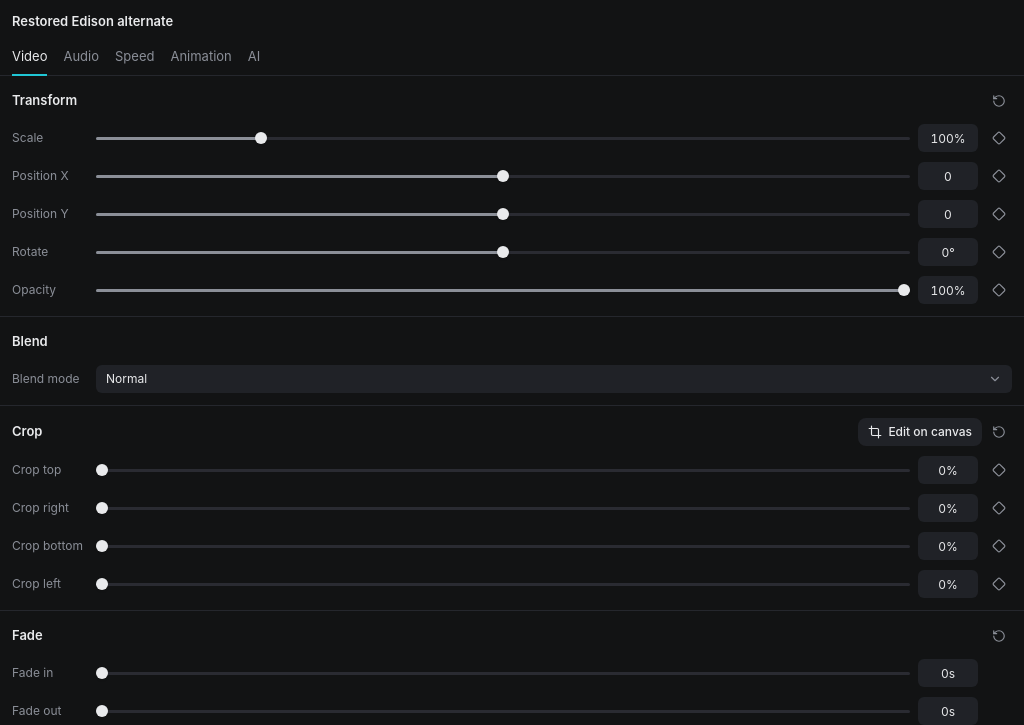
Test: clip AI tab › disables every action while the clip's generation is running
The width and height of the screenshot is (1024, 725).
Press the mouse on the tab "AI" at (254, 58), box [248,40,260,76]
(page scrolled)
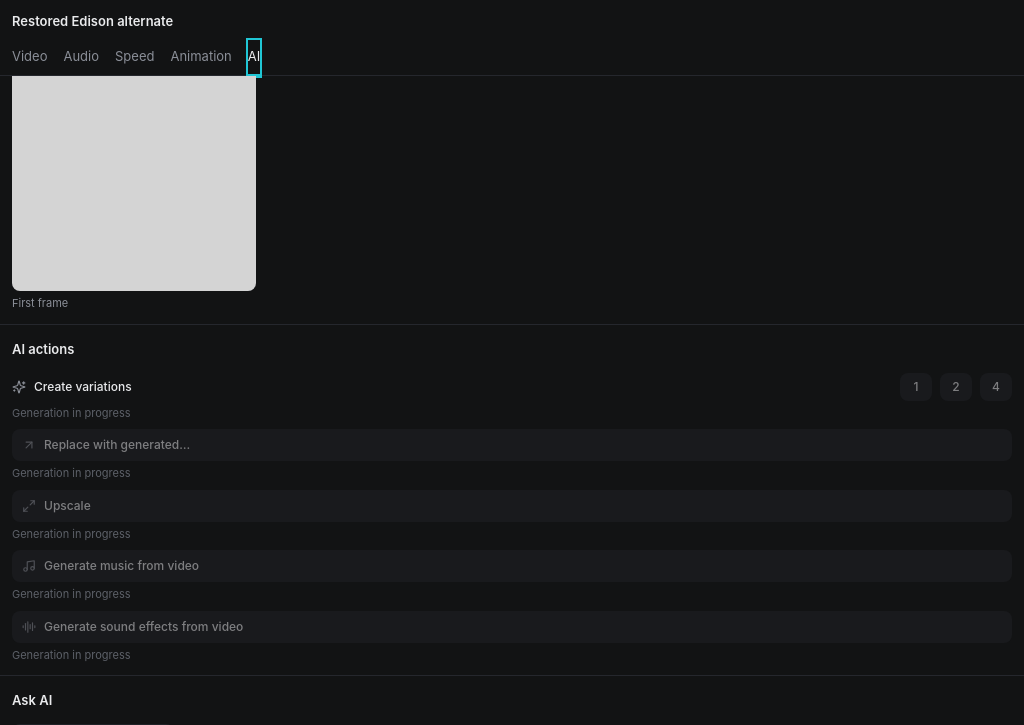
Result: the element "AI actions" shows "Generation in progress" at [12,406,131,420]
